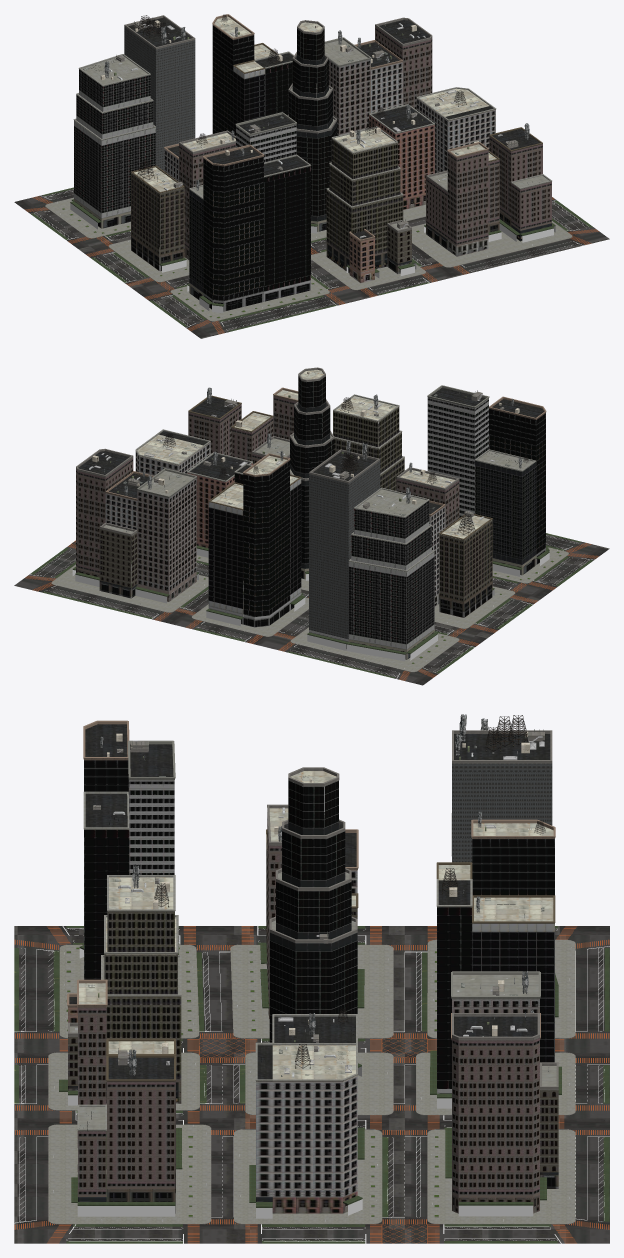
File: nyc-block-lite.glb
3 renders of one model, top to bottom at view 1: azimuth 30°, elevation 25°; view 2: azimuth 150°, elevation 25°; view 3: azimuth 270°, elevation 25°, orthographic. The views are drawn at different scales.
Visible parts, largest first — view 1: Object_122, Object_69, Object_16, Object_18, Object_124, Object_57, Object_59, Object_116, Object_8, Object_14, Object_112, Object_71 (+14 smaller); view 2: Object_122, Object_69, Object_16, Object_124, Object_18, Object_57, Object_59, Object_112, Object_116, Object_8, Object_118, Object_14 (+15 smaller); view 3: Object_69, Object_16, Object_122, Object_18, Object_14, Object_8, Object_116, Object_57, Object_124, Object_59, Object_12, Object_114 (+15 smaller).
Part boxes in pixels (<box>): Object_122: <box>74,25,337,311</box>; Object_69: <box>131,26,551,283</box>; Object_16: <box>14,189,609,338</box>; Object_18: <box>45,197,572,321</box>; Object_124: <box>124,27,195,171</box>; Object_57: <box>134,88,496,191</box>; Object_59: <box>168,20,539,239</box>; Object_116: <box>128,17,326,176</box>; Object_8: <box>31,187,592,331</box>; Object_14: <box>25,196,598,334</box>; Object_112: <box>75,56,334,198</box>; Object_71: <box>326,87,551,207</box>; Object_122: <box>208,376,545,659</box>; Object_69: <box>76,396,492,617</box>; Object_16: <box>14,534,609,685</box>; Object_124: <box>309,461,380,638</box>; Object_18: <box>51,547,568,671</box>; Object_57: <box>137,390,491,538</box>; Object_59: <box>78,397,441,514</box>; Object_112: <box>290,385,534,571</box>; Object_116: <box>237,387,544,480</box>; Object_8: <box>31,533,592,678</box>; Object_118: <box>206,551,549,661</box>; Object_14: <box>25,540,598,680</box>; Object_69: <box>68,815,558,1213</box>; Object_16: <box>14,926,609,1243</box>; Object_122: <box>84,760,554,1093</box>; Object_18: <box>48,940,575,1223</box>; Object_14: <box>14,926,609,1243</box>; Object_8: <box>14,926,609,1243</box>; Object_116: <box>85,724,550,907</box>; Object_57: <box>79,808,356,1079</box>; Object_124: <box>452,763,552,970</box>; Object_59: <box>69,833,537,1081</box>; Object_12: <box>14,925,609,1243</box>; Object_114: <box>290,771,553,921</box>.
Bounding box in the file's own units: 248 × 112 × 196.
Materials: 29 (18 with a texture image).
